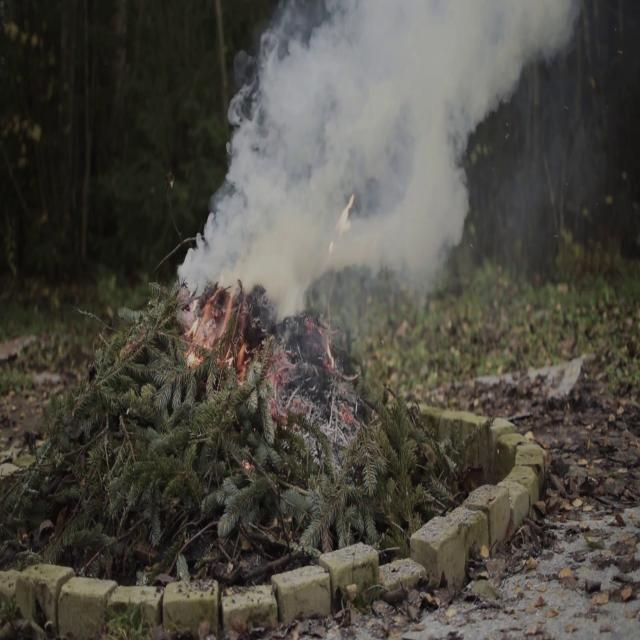Smoke: (170, 0, 583, 305)
